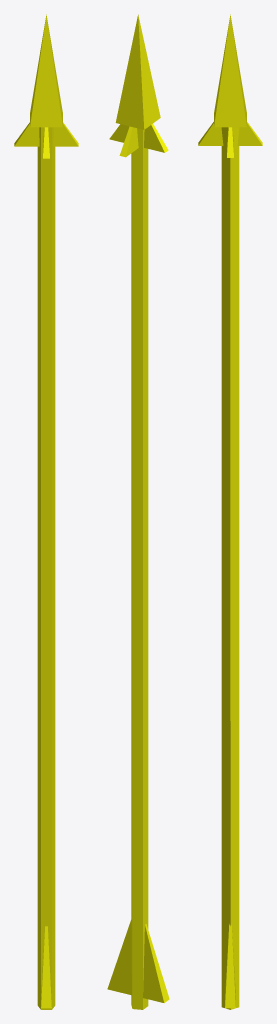
File: _arrow_b_1.glb
3 views of the same model, side by side, from view 1: azimuth 90°, elevation 25°; view 2: azimuth 150°, elevation 25°; view 3: azimuth 270°, elevation 25° (orthographic).
Parts seen in each view (by area): view 1: arrow_b_1; view 2: arrow_b_1; view 3: arrow_b_1.
Part boxes in pixels (x1,y1,x2,y2): arrow_b_1: (14, 14, 78, 1009); arrow_b_1: (107, 14, 169, 1009); arrow_b_1: (198, 14, 262, 1009).
Size of the model in its own units: 0.0379 by 0.6314 by 0.0372.
1 material, 1 textured.
